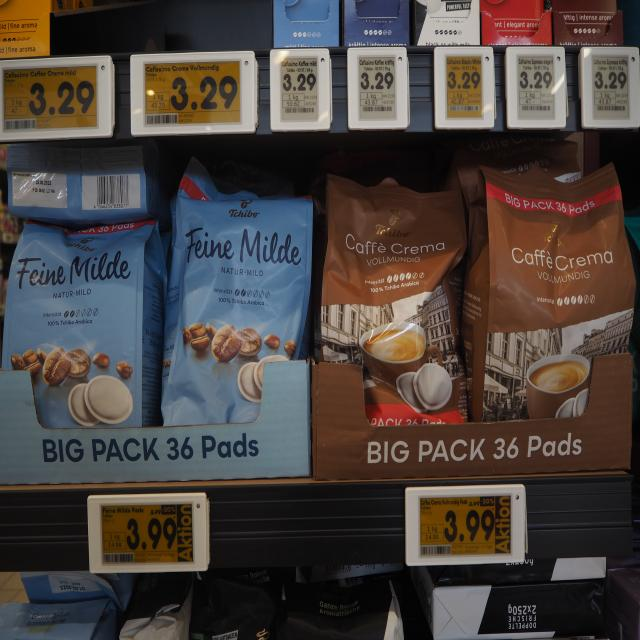CC Vollmundig: (462, 149, 638, 469), (311, 160, 471, 469)
FM 36 Pads: (156, 158, 310, 472), (0, 219, 166, 464)
